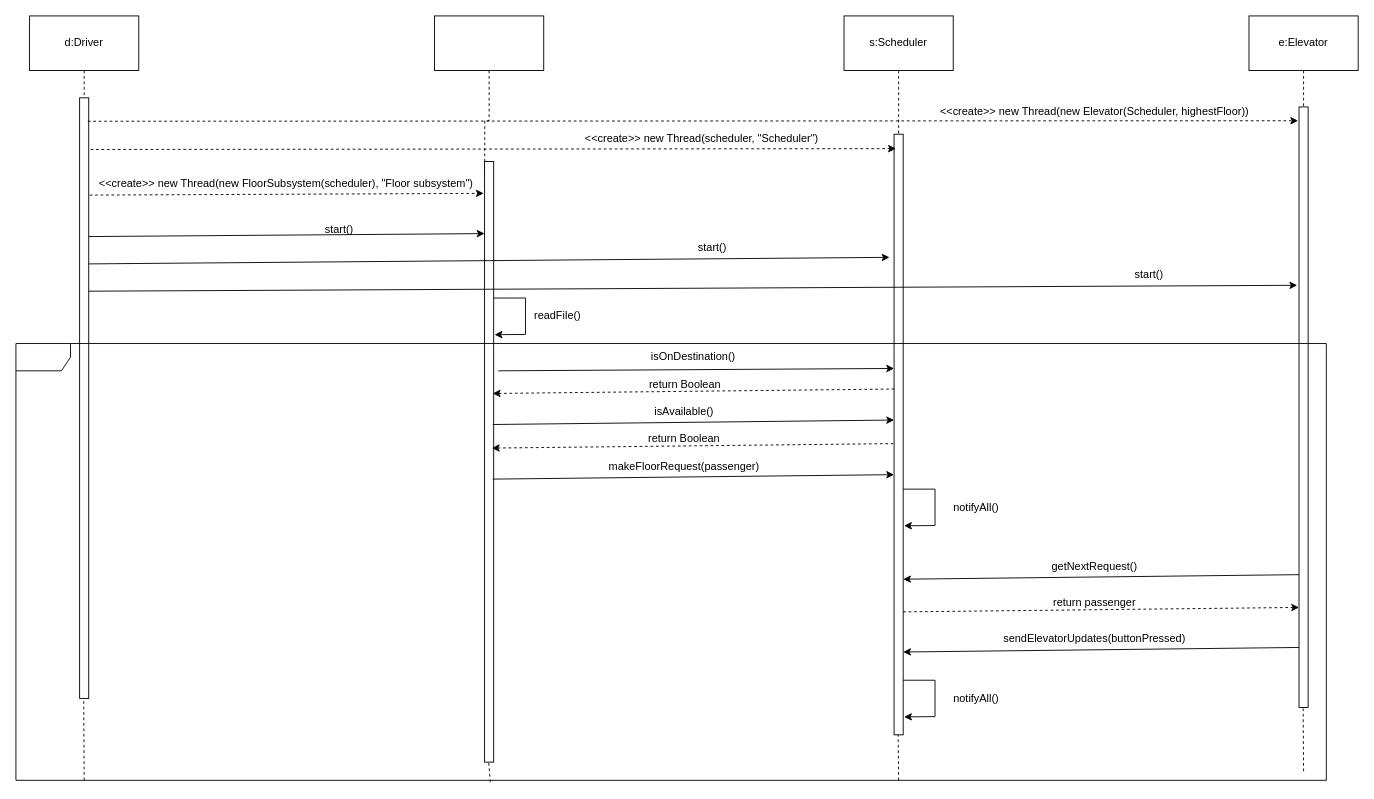
Some shapes in this 1374 by 799 pixel diagram are drawn without their labels. Here are the shapes that lost their labels. From the top down, the box of each, then its label:
(434, 15, 544, 71): f:FloorSubsystem
(15, 343, 1326, 780): Loop
